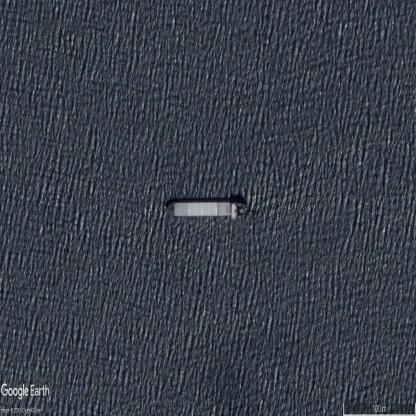ship: (166, 202, 246, 218)
